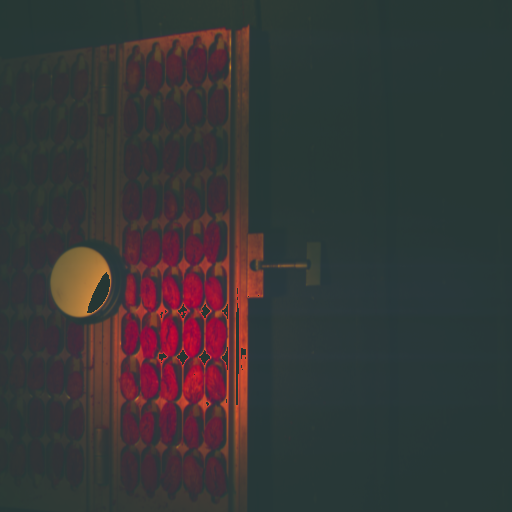bueno: (208, 176, 231, 212), (119, 452, 138, 492), (161, 364, 180, 401), (160, 403, 177, 444), (187, 51, 208, 84), (160, 320, 179, 355), (209, 88, 227, 124), (122, 186, 140, 221), (188, 182, 205, 217), (68, 151, 86, 184), (142, 189, 161, 220), (166, 95, 183, 129), (68, 190, 85, 224), (139, 410, 157, 441), (125, 141, 140, 178), (162, 140, 181, 169), (32, 153, 49, 185), (28, 321, 45, 351), (34, 109, 50, 139), (52, 152, 66, 185), (142, 141, 157, 171), (50, 194, 64, 226), (17, 75, 30, 105), (29, 363, 43, 390), (68, 449, 80, 480), (50, 407, 64, 432), (0, 119, 13, 144), (31, 405, 43, 432), (15, 193, 29, 215), (0, 198, 11, 223), (192, 146, 205, 167), (17, 163, 28, 184)
malo: (162, 231, 181, 265), (143, 230, 161, 265), (185, 273, 203, 308), (122, 273, 140, 306), (142, 451, 157, 489), (121, 322, 138, 354), (206, 276, 222, 309), (66, 323, 82, 354), (190, 94, 205, 127), (186, 233, 201, 264), (165, 189, 179, 217), (52, 447, 65, 477), (48, 233, 60, 263), (146, 105, 160, 130), (32, 237, 44, 265), (14, 117, 26, 144), (54, 120, 64, 144), (15, 284, 26, 304), (34, 206, 44, 228), (16, 250, 25, 267)
parcial: (202, 225, 226, 261), (206, 319, 226, 357), (182, 459, 203, 494), (206, 367, 227, 401), (163, 276, 183, 309), (161, 454, 179, 490), (208, 457, 225, 495), (140, 366, 159, 400), (139, 277, 159, 309), (184, 370, 204, 400), (186, 319, 201, 357), (147, 58, 164, 91), (168, 53, 185, 86), (139, 327, 157, 358), (31, 447, 50, 475), (124, 232, 140, 264), (126, 102, 142, 133), (70, 406, 84, 441), (47, 360, 62, 392), (73, 106, 87, 140), (126, 63, 142, 92), (210, 50, 227, 77), (207, 419, 223, 447), (120, 373, 137, 399), (208, 140, 223, 168), (13, 323, 28, 351), (54, 71, 68, 100), (31, 275, 45, 304), (11, 449, 25, 478), (74, 70, 87, 100), (67, 372, 82, 398), (0, 237, 14, 264), (46, 327, 60, 354), (9, 412, 24, 437), (123, 415, 136, 441), (0, 324, 12, 352), (1, 163, 15, 186), (187, 421, 200, 445), (35, 76, 48, 99), (16, 359, 25, 386), (0, 362, 10, 384), (0, 448, 8, 475), (68, 234, 83, 246), (6, 88, 14, 105), (0, 410, 7, 428)
